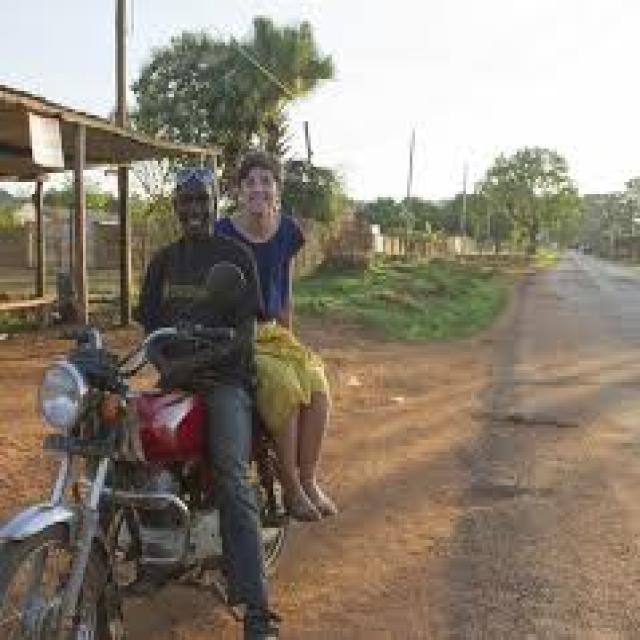bodaboda: (0, 254, 306, 639)
